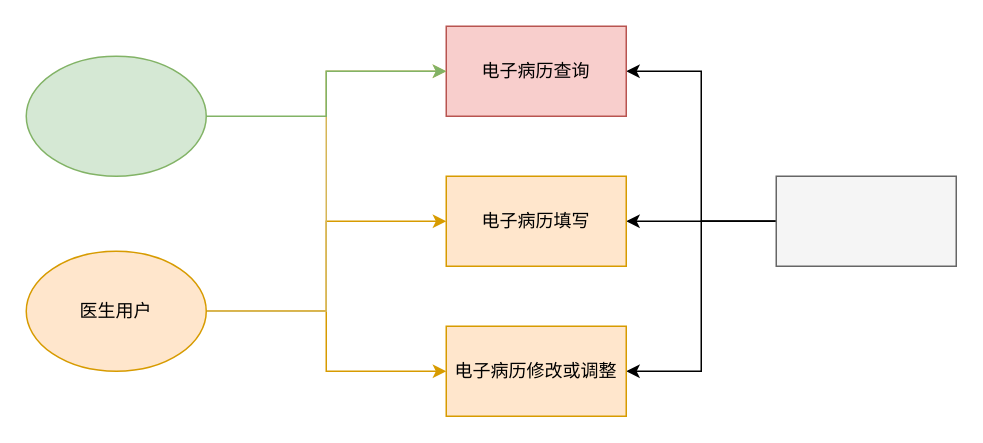
Some shapes in this 983 by 443 pixel diagram are drawn without their labels. Each missing label, with the centre of its shape:
普通用户: pixel 115 115
电子病历模块: pixel 865 220
